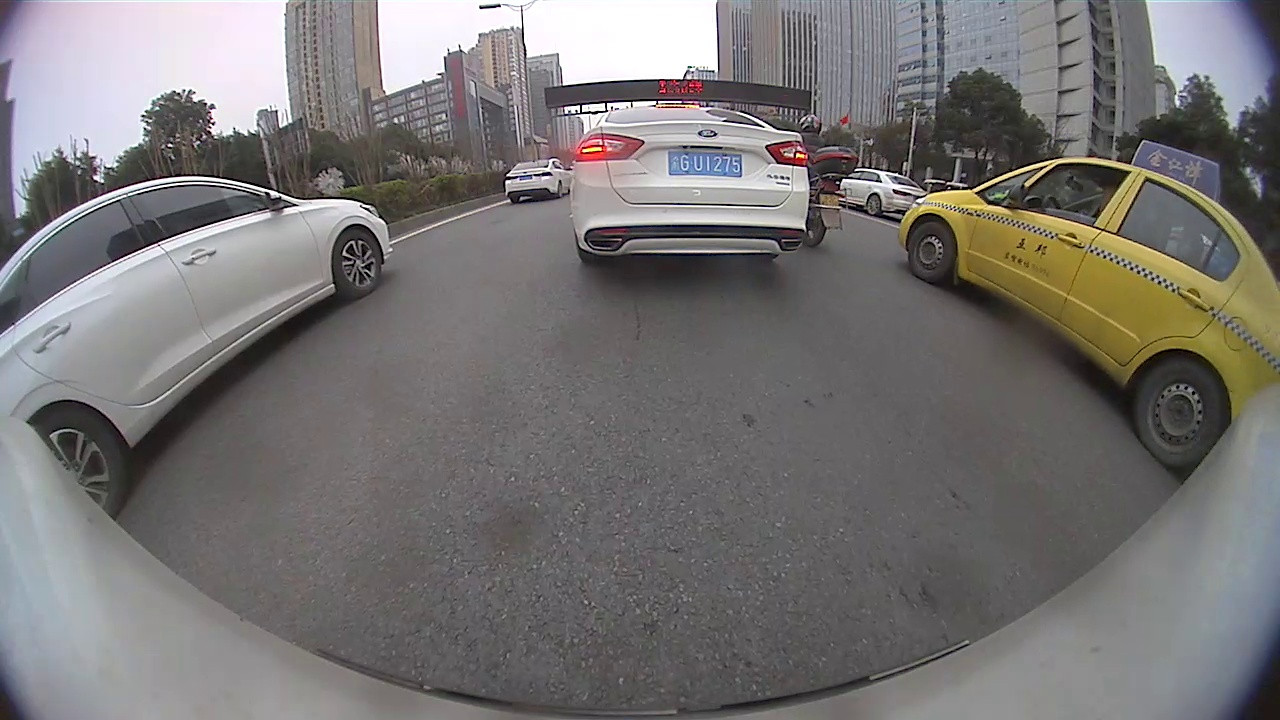car: (1, 175, 394, 522), (898, 139, 1278, 470), (568, 103, 810, 266), (838, 168, 927, 215), (504, 157, 571, 203)
front: (331, 228, 383, 299), (905, 219, 956, 286)
rear: (32, 405, 132, 520), (1132, 359, 1224, 470), (865, 192, 883, 217)
rider: (796, 112, 860, 247)
